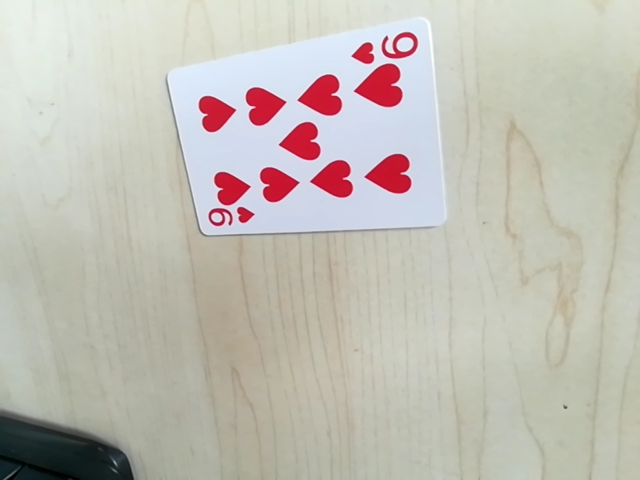hx 9: (350, 24, 423, 66), (201, 204, 257, 232)
